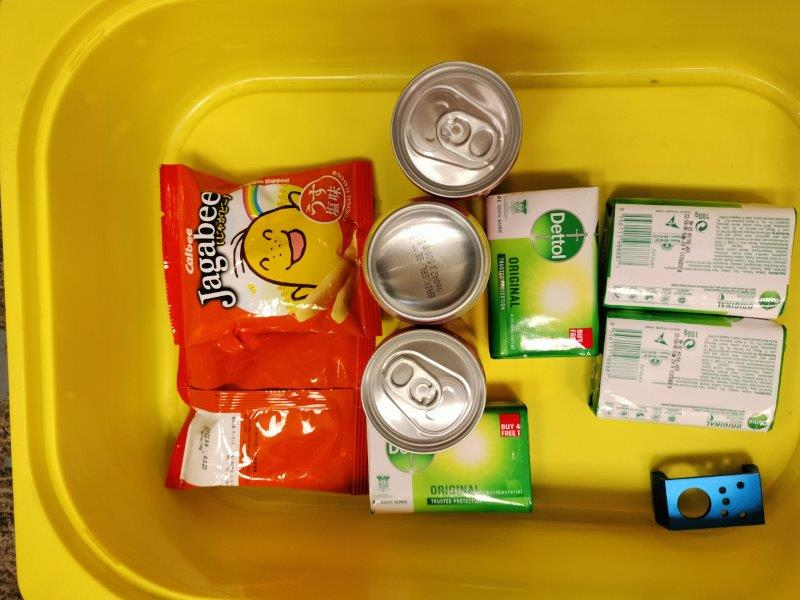Coke: (393, 62, 518, 195), (362, 332, 482, 448), (367, 204, 482, 322)
Dettol: (591, 320, 785, 431), (607, 203, 792, 318), (488, 189, 600, 353), (368, 406, 530, 515)
Jagabee: (161, 166, 381, 332), (170, 331, 368, 489)
